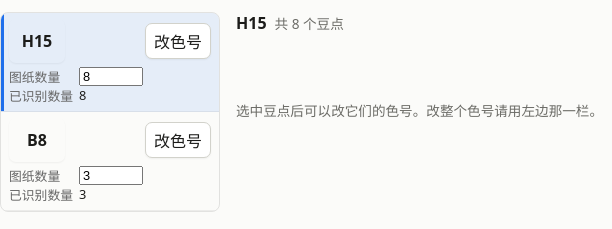
Test: 点左栏切换右侧
This screenshot has width=612, height=229.
Click the button named "查看 B8".
click(37, 140)  # box [9,118,65,162]
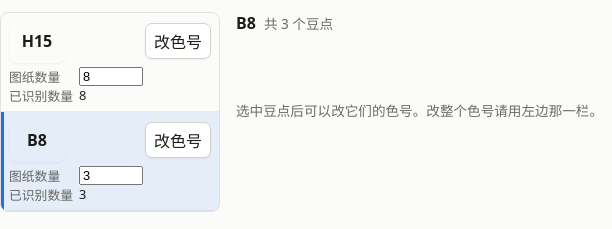
Result: the text "共 3 个豆点" is shown at [264,13,333,33]
